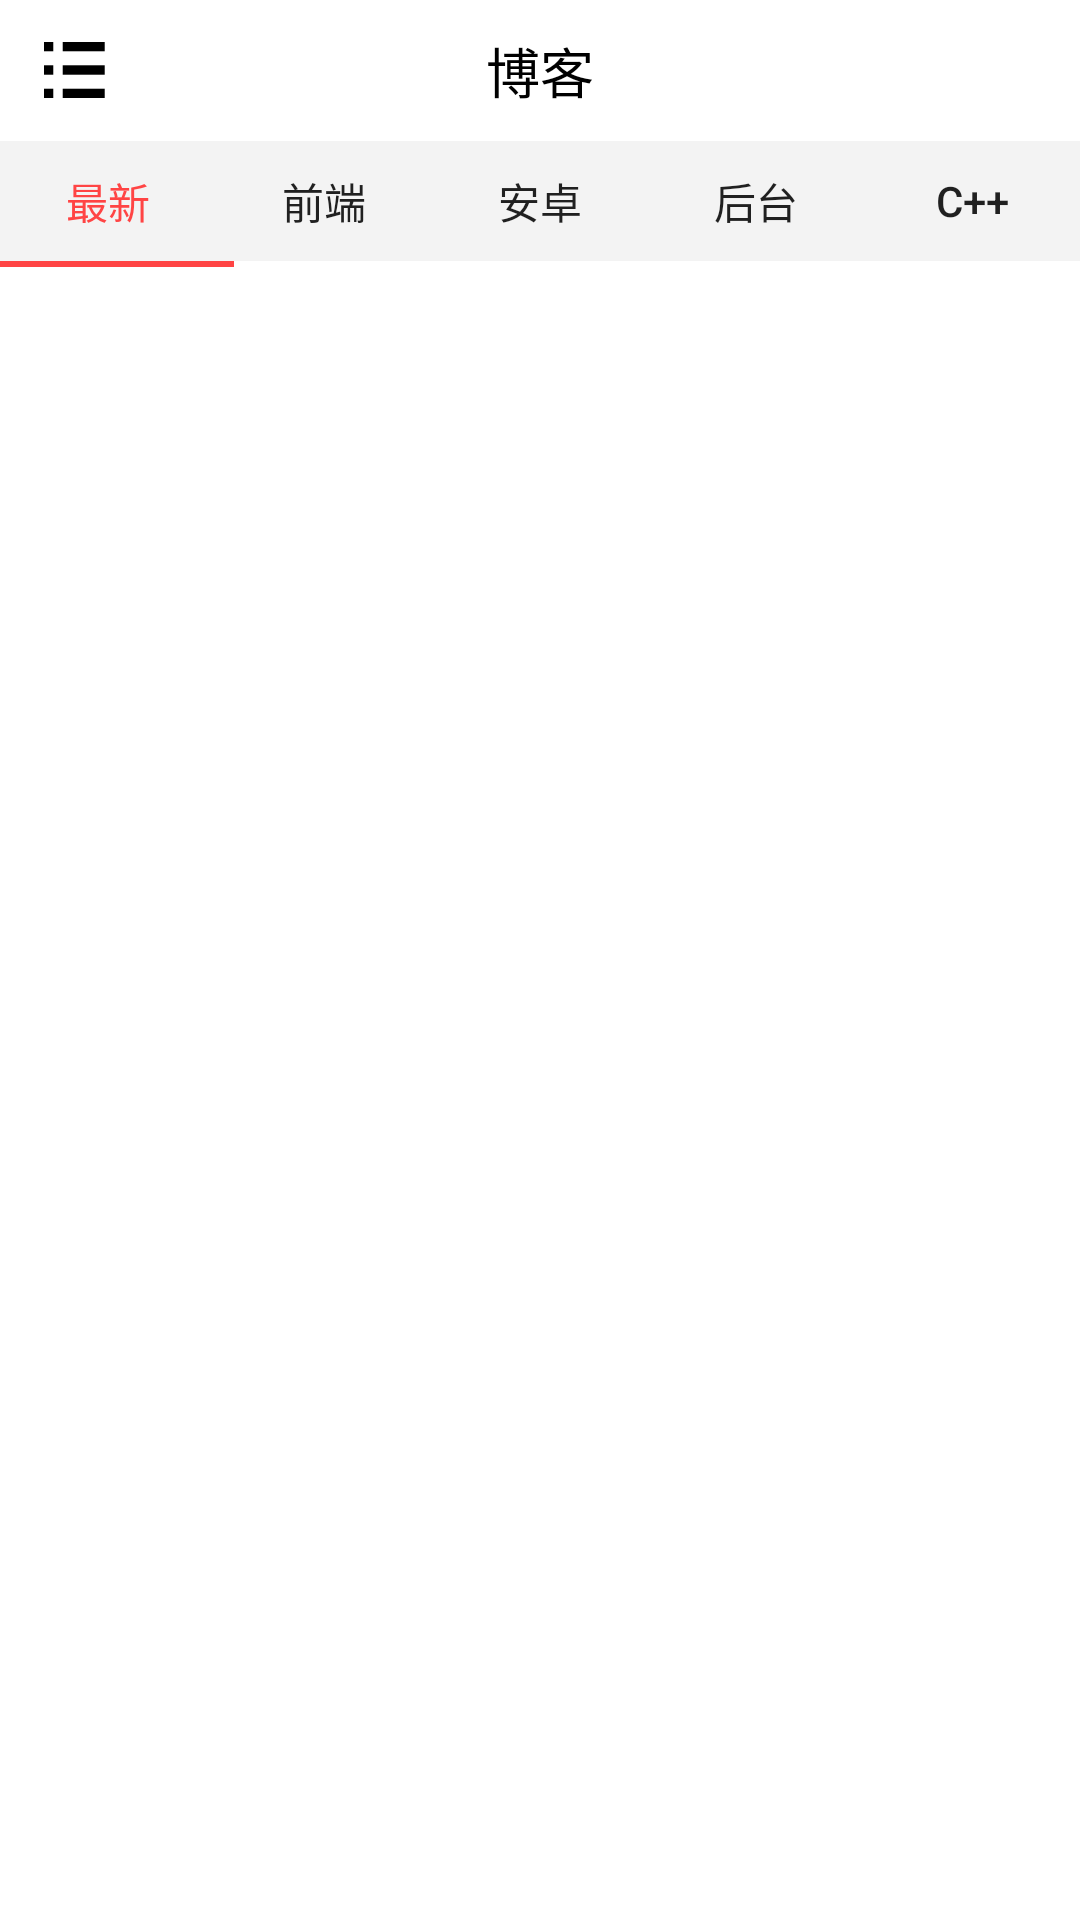

Locate icon controls on the screen. Image size 1080 × 1920, boxes as bbox(x1, y1, x2, y2).
format list bulleted: bbox(44, 42, 105, 98)
